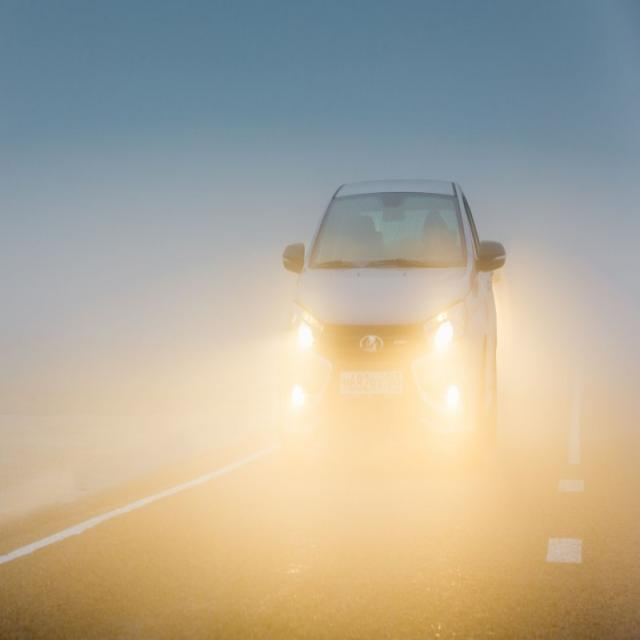Car: (275, 172, 508, 462)
